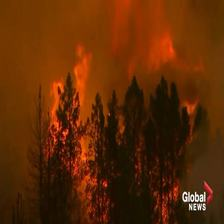fire: (29, 45, 150, 220)
